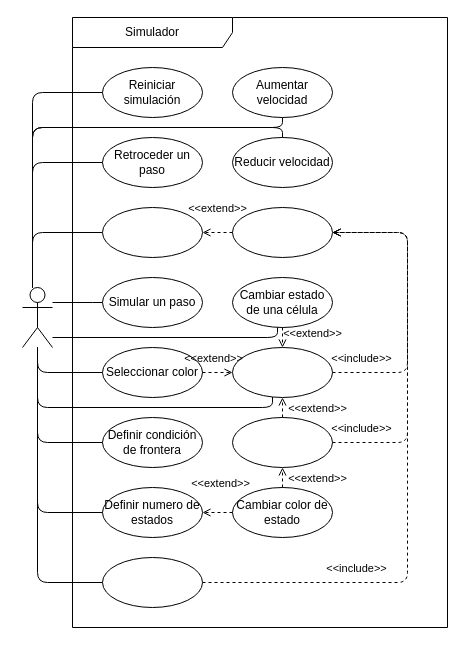
The diagram is 465 pixels wide and 645 high, and some of its shapes have lost their labels. Each missing label, with the box of its shape:
Agregar estado: (232, 416, 332, 468)
Definir función de transición: (102, 556, 202, 608)
Definir vecindad: (232, 346, 332, 398)
Iniciar simulación: (102, 206, 202, 258)
Pausar simulación: (232, 206, 332, 258)
Usuario: (22, 286, 52, 348)
